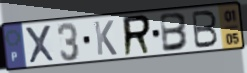3: (56, 21, 80, 63)
B: (159, 11, 190, 54), (190, 9, 220, 50)
K: (92, 19, 119, 57)
R: (122, 13, 153, 58)
X: (23, 23, 58, 65)
